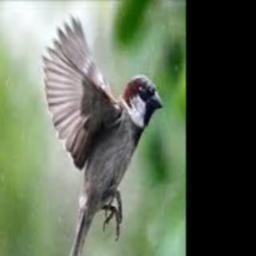Sparrow: (42, 14, 162, 256)
